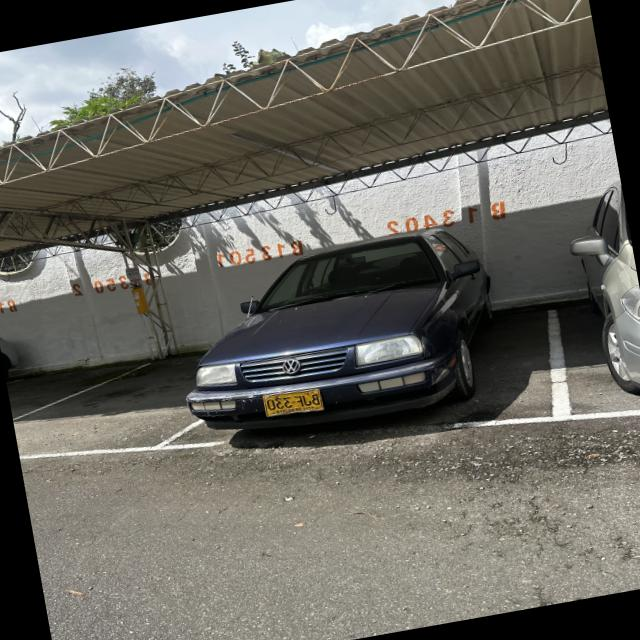number plate: (263, 389, 324, 416)
